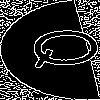Q: (25, 25, 100, 71)
